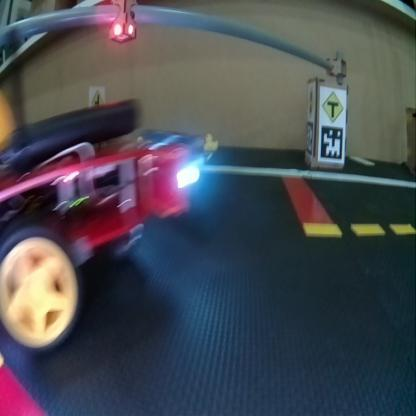Duckie: (203, 132, 217, 150)
Duckiebot: (1, 119, 202, 354)
Intersection sign: (321, 90, 343, 120), (90, 90, 102, 105)
QR code: (321, 127, 342, 158), (305, 122, 313, 154)
Signal sign: (306, 88, 315, 120)
Traffic light: (108, 0, 136, 44)
